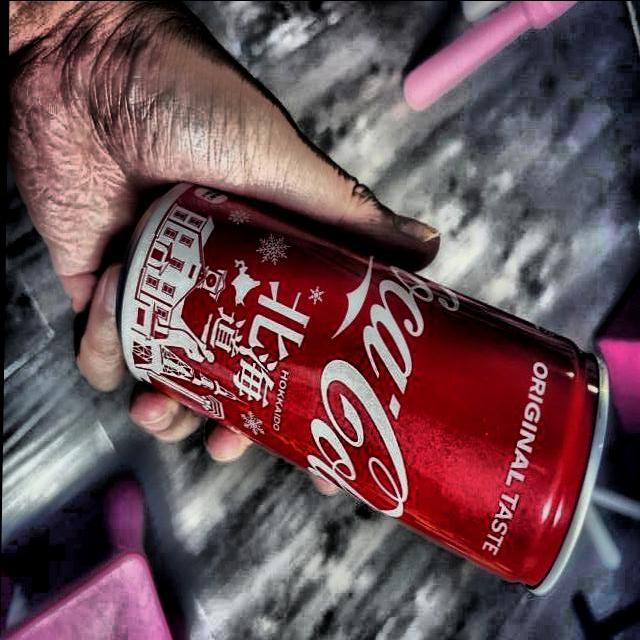Aluminum Can: (100, 179, 622, 601)
